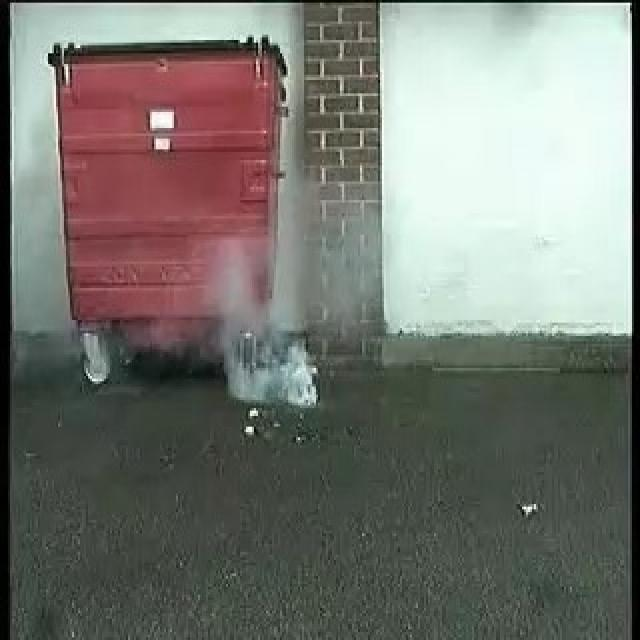smoke: (225, 251, 316, 406)
